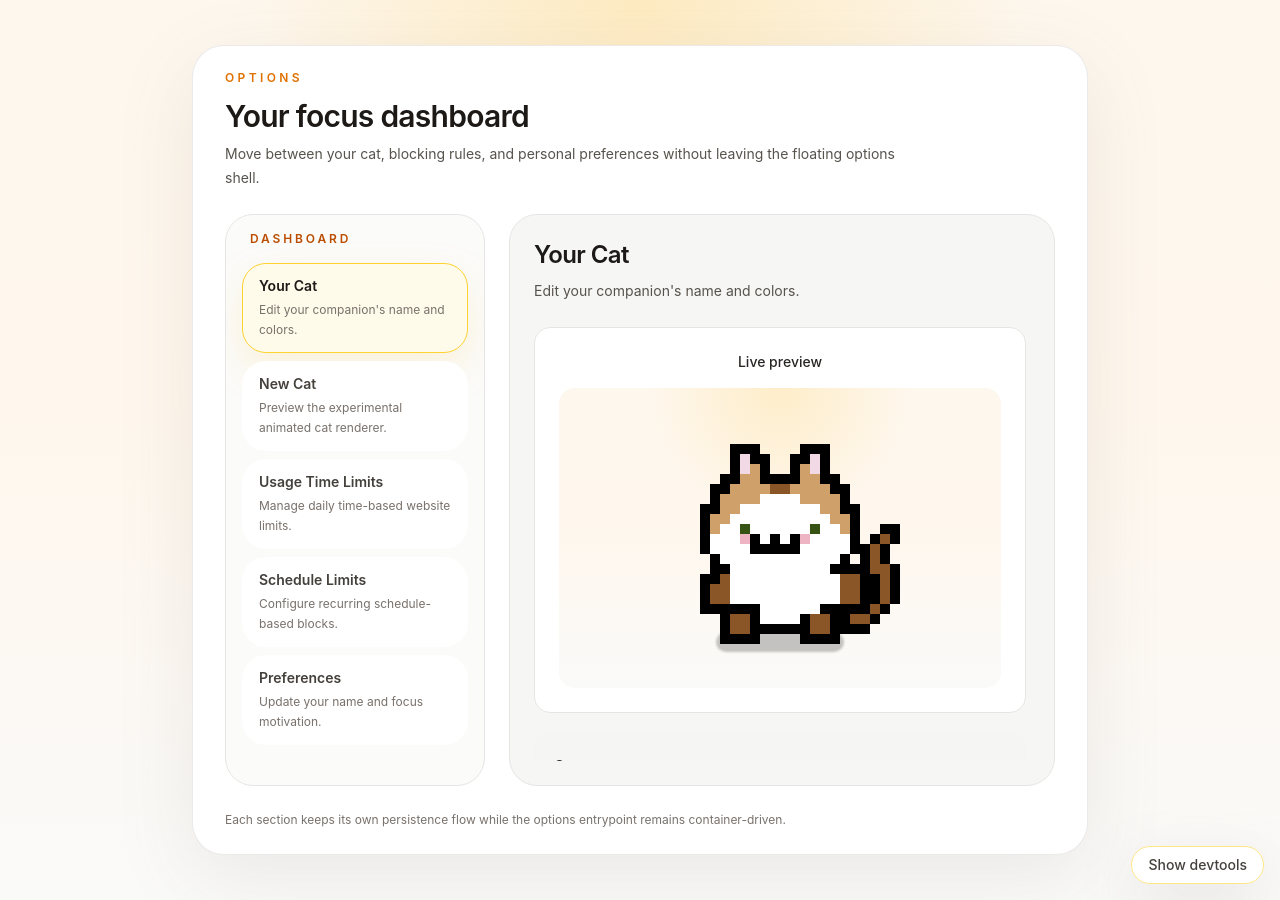
Test: options developer tools › opens and closes the developer tools within the current page session
What coordinates should you click on to do the following:
click the button "Show devtools"
I would click on:
 (1198, 865)
Its box is [1132, 846, 1264, 884].
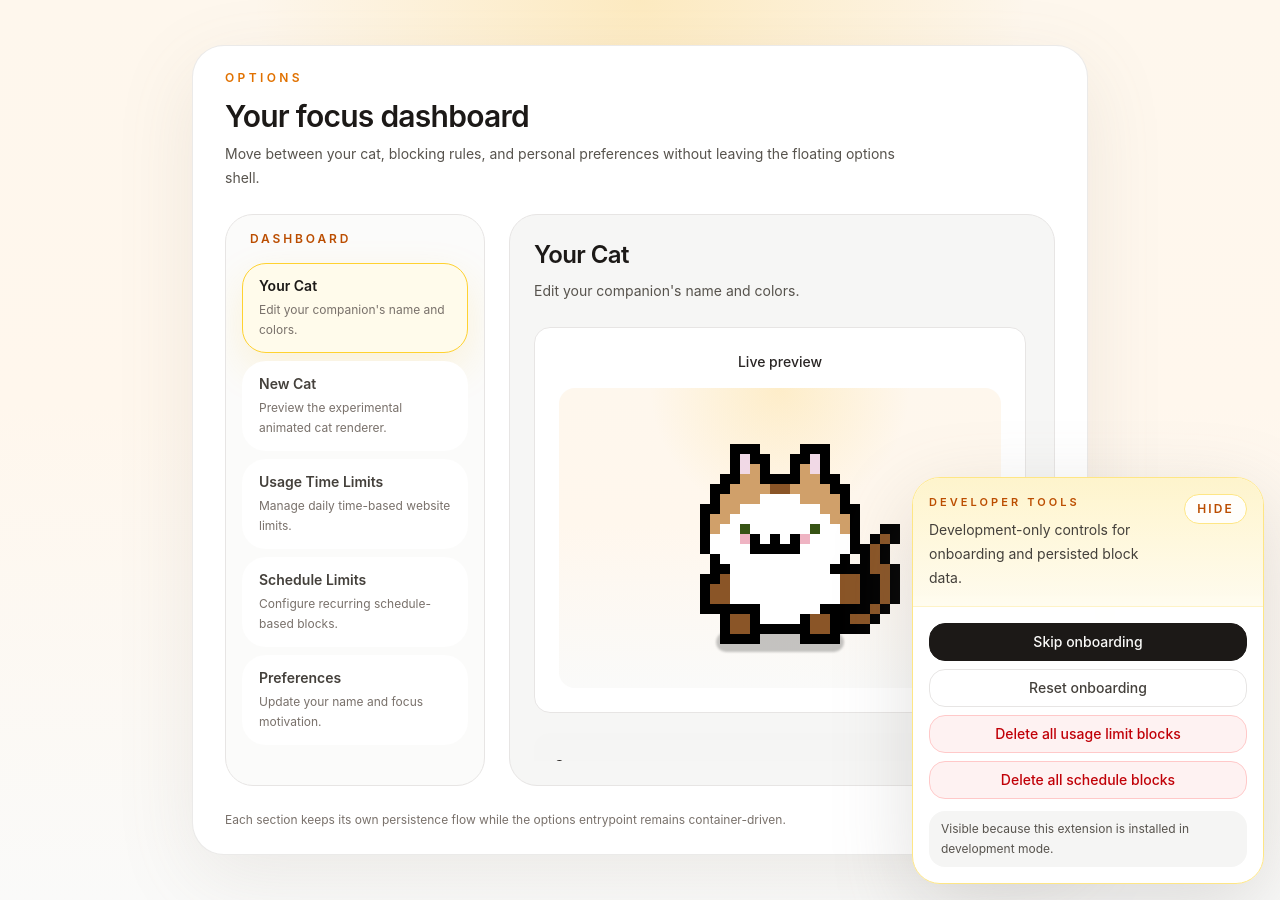
Check: the text "Developer tools" is shown, box [929, 494, 1080, 508]
What coordinates should you click on to do the following:
click the button "Hide"
I would click on:
 (1216, 508)
Its box is [1184, 494, 1247, 524].
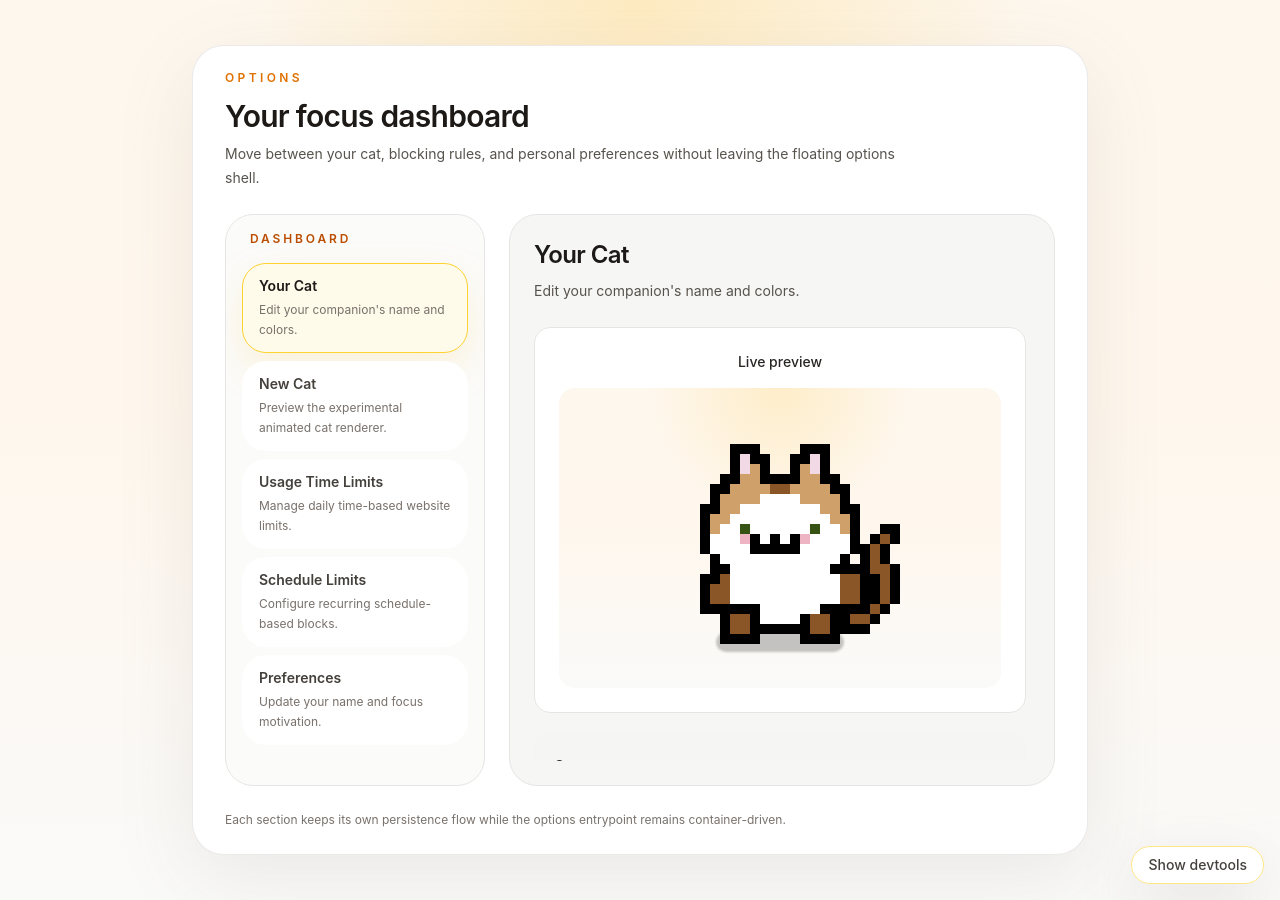
Check: the text "Developer tools" is gone
Check: the button "Show devtools" is shown, box [1132, 846, 1264, 884]
